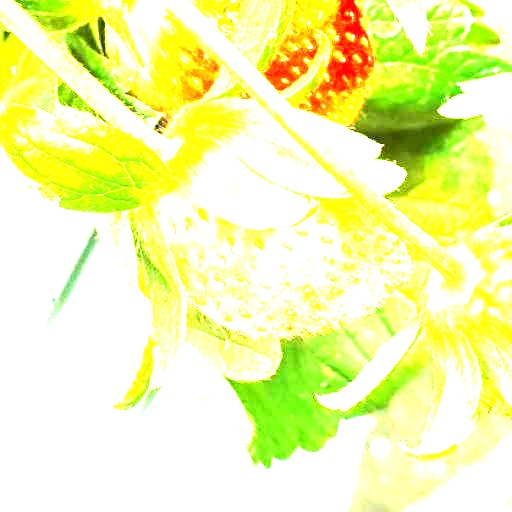Powdery Mildew Fruit: (215, 199, 418, 340)
